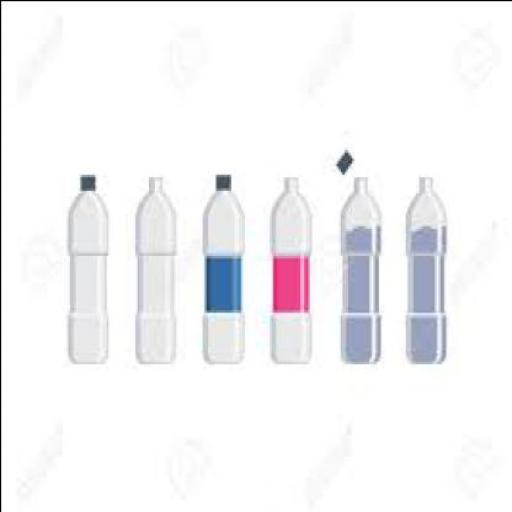plastic: (197, 170, 244, 358), (401, 174, 443, 360), (65, 170, 106, 360), (132, 174, 173, 363), (269, 170, 308, 358), (338, 174, 377, 360), (334, 147, 349, 171), (211, 171, 228, 190), (76, 171, 92, 190)
